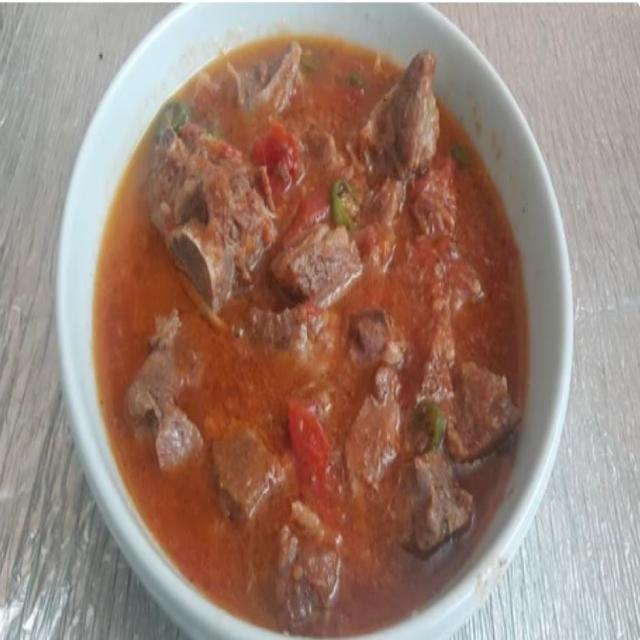kamouniya: (78, 9, 584, 618)
